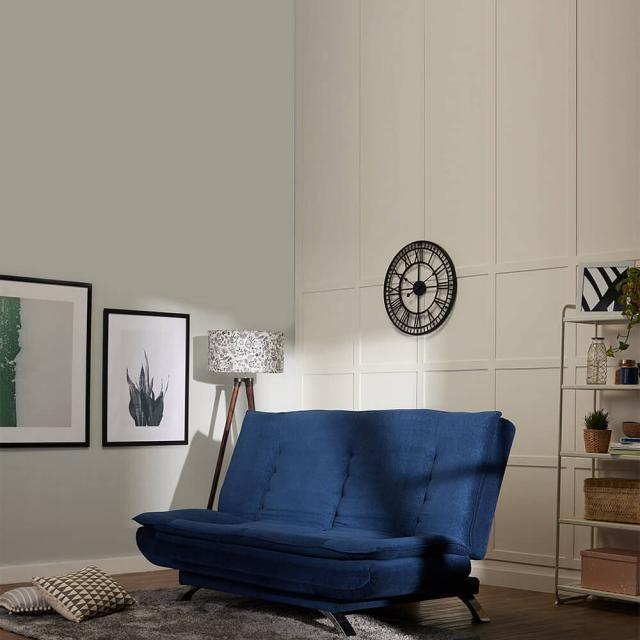sofa: (131, 406, 517, 636)
